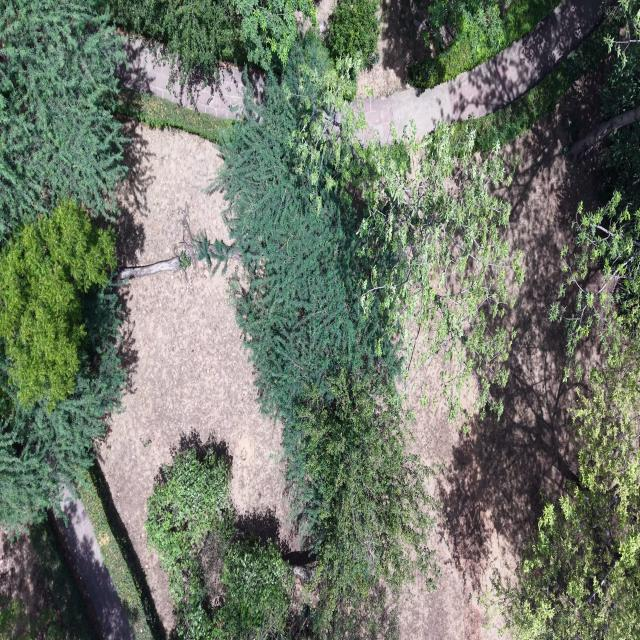DRY_AREA: (400, 70, 602, 639), (399, 77, 599, 639), (100, 263, 297, 630), (100, 262, 288, 629), (359, 0, 602, 142), (357, 0, 435, 98), (358, 0, 430, 97), (358, 0, 429, 97), (0, 528, 50, 615)
PATHWAYS: (363, 0, 604, 141)
VEGETATION_TREE: (0, 0, 591, 639), (217, 33, 601, 636), (212, 32, 523, 636), (215, 33, 523, 636), (225, 51, 522, 558), (218, 35, 523, 419), (0, 0, 126, 638), (294, 67, 523, 417), (487, 125, 639, 639), (146, 378, 434, 638), (217, 34, 395, 421), (489, 195, 639, 639), (0, 0, 125, 532), (358, 125, 524, 419), (493, 340, 639, 639), (265, 96, 397, 416), (287, 371, 438, 637), (0, 283, 125, 530), (0, 0, 125, 239), (146, 440, 293, 639), (452, 7, 637, 151), (451, 11, 637, 152), (0, 200, 115, 409), (551, 123, 639, 357), (451, 23, 607, 152), (111, 0, 315, 90), (111, 0, 315, 85), (550, 192, 639, 378), (146, 448, 232, 638), (77, 464, 164, 639), (569, 2, 639, 197), (408, 0, 559, 88), (0, 519, 97, 639), (111, 0, 245, 82), (29, 511, 96, 639), (216, 533, 293, 638), (117, 88, 233, 143), (229, 0, 316, 68), (602, 0, 639, 119), (326, 0, 380, 68), (569, 107, 639, 159), (0, 598, 68, 639), (605, 0, 639, 68)
